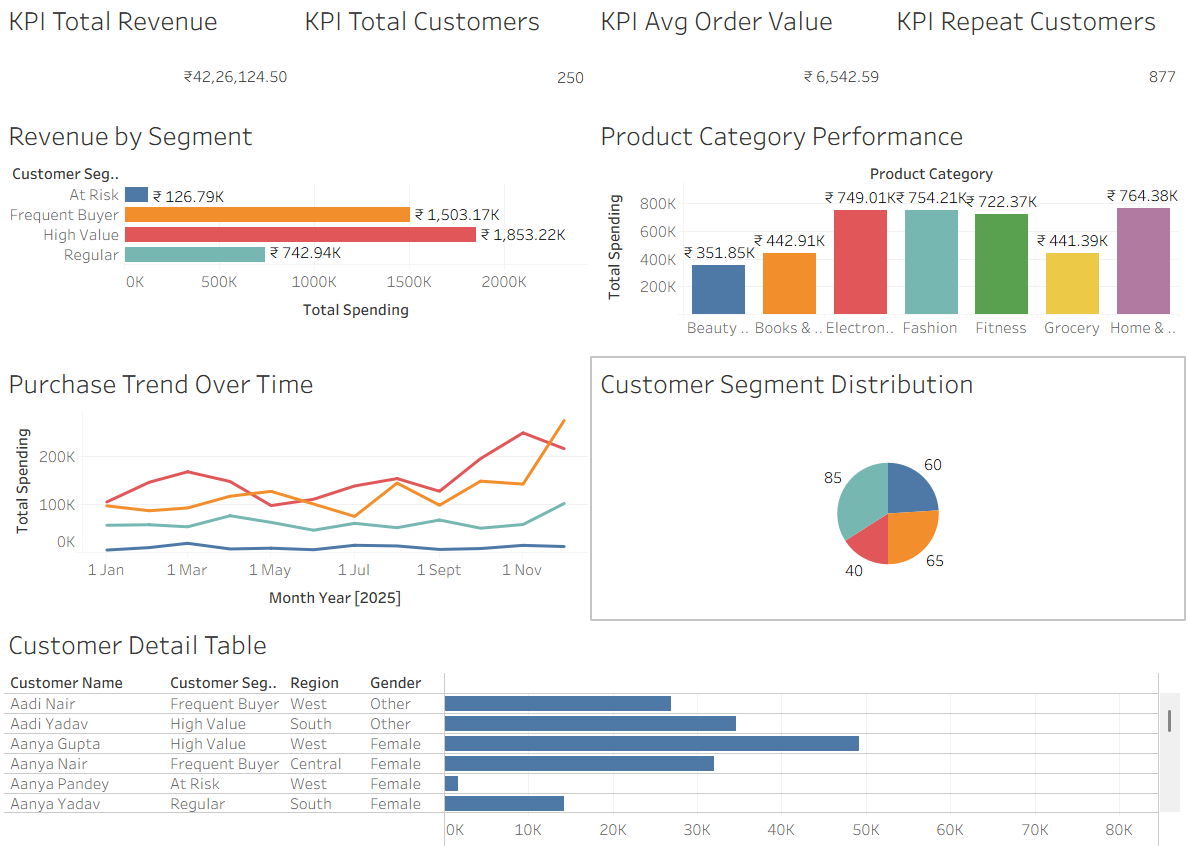

Layout of this report page (visuals, bound fields, positions):
{"tool":"tableau","page":{"name":"Dashboard","canvas":[1200,900],"ordinal":0},"visuals":[{"type":"worksheet","title":"KPI Total Revenue","mark":"Automatic","box":[8,8,296,115]},{"type":"worksheet","title":"KPI Total Customers","mark":"Automatic","box":[304,8,296,115]},{"type":"worksheet","title":"KPI Avg Order Value","mark":"Automatic","box":[600,8,296,115]},{"type":"worksheet","title":"KPI Repeat Customers","mark":"Automatic","box":[896,8,296,115]},{"type":"worksheet","title":"Revenue by Segment","mark":"Bar","rows":["Customer Segment"],"cols":["Total Spending"],"box":[8,123,592,248]},{"type":"worksheet","title":"Product Category Performance","mark":"Bar","rows":["Total Spending"],"cols":["Product Category"],"box":[600,123,592,248]},{"type":"worksheet","title":"Purchase Trend Over Time","mark":"Line","rows":["Total Spending"],"cols":["Month Year"],"box":[8,371,592,260.5]},{"type":"worksheet","title":"Customer Segment Distribution","mark":"Pie","box":[600,371,592,260.5]},{"type":"worksheet","title":"Customer Detail Table","mark":"Automatic","rows":["Customer Name","Customer Segment","Region","Gender"],"cols":["Total Spending"],"box":[8,631.5,1184,260.5]}]}

Visuals, with their boxes on the page's 1200x900 design canvas (x1, y1, x2, y2). These are canvas units, not pixel positions in the 1188x846 screenshot, which may show the page scaled, cropped or inside an application window:
"KPI Total Revenue" worksheet: {"left": 8, "top": 8, "right": 304, "bottom": 123}
"KPI Total Customers" worksheet: {"left": 304, "top": 8, "right": 600, "bottom": 123}
"KPI Avg Order Value" worksheet: {"left": 600, "top": 8, "right": 896, "bottom": 123}
"KPI Repeat Customers" worksheet: {"left": 896, "top": 8, "right": 1192, "bottom": 123}
"Revenue by Segment" worksheet (Bar marks): {"left": 8, "top": 123, "right": 600, "bottom": 371}
"Product Category Performance" worksheet (Bar marks): {"left": 600, "top": 123, "right": 1192, "bottom": 371}
"Purchase Trend Over Time" worksheet (Line marks): {"left": 8, "top": 371, "right": 600, "bottom": 632}
"Customer Segment Distribution" worksheet (Pie marks): {"left": 600, "top": 371, "right": 1192, "bottom": 632}
"Customer Detail Table" worksheet: {"left": 8, "top": 632, "right": 1192, "bottom": 892}
